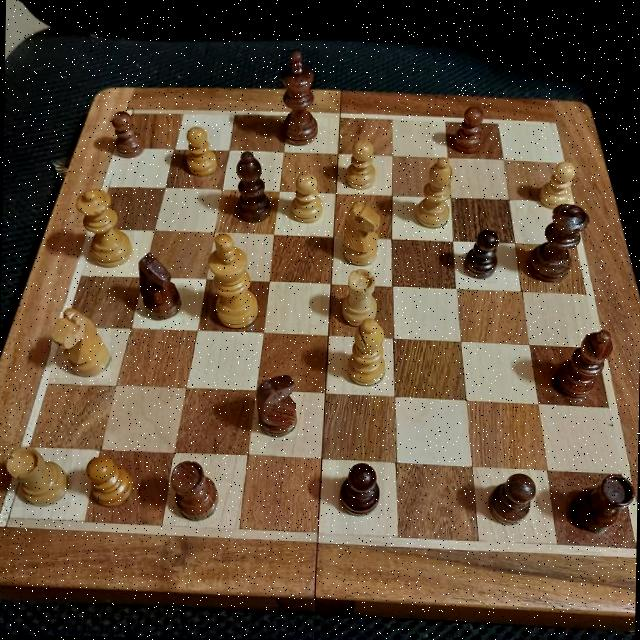black-camel: (224, 153, 275, 225), (568, 325, 607, 398)
black-elephant: (566, 468, 637, 544), (168, 458, 229, 523)
black-horse: (248, 376, 304, 436), (140, 248, 180, 320)
black-king: (280, 49, 320, 153)
black-pawn: (483, 471, 542, 523), (338, 460, 384, 516), (108, 110, 152, 162), (454, 103, 492, 154), (476, 228, 498, 284)
black-queen: (530, 204, 591, 286)
white-camel: (356, 321, 388, 388), (426, 156, 449, 226)
white-elephant: (0, 444, 72, 508), (350, 266, 380, 330)
white-horse: (50, 311, 111, 379), (342, 201, 382, 263)
white-king: (208, 234, 265, 328)
white-pawn: (80, 458, 138, 502), (336, 140, 386, 188), (288, 170, 325, 223), (183, 126, 220, 174), (546, 160, 576, 206)
white-queen: (76, 192, 134, 262)
